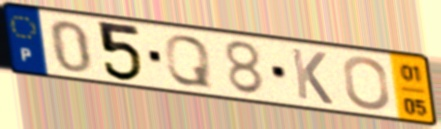0: (47, 18, 98, 75)
5: (93, 20, 148, 85)
8: (221, 38, 266, 97)
K: (288, 45, 336, 107)
O: (340, 55, 393, 112)
Q: (162, 33, 215, 90)
